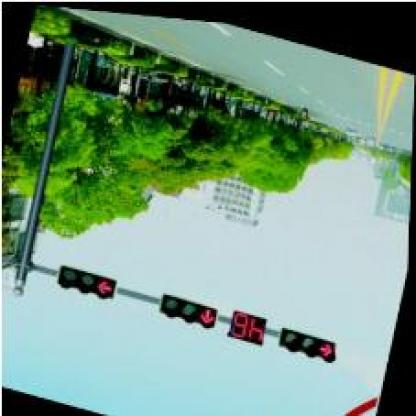red: (278, 318, 341, 356), (160, 289, 221, 327), (57, 262, 115, 299)
